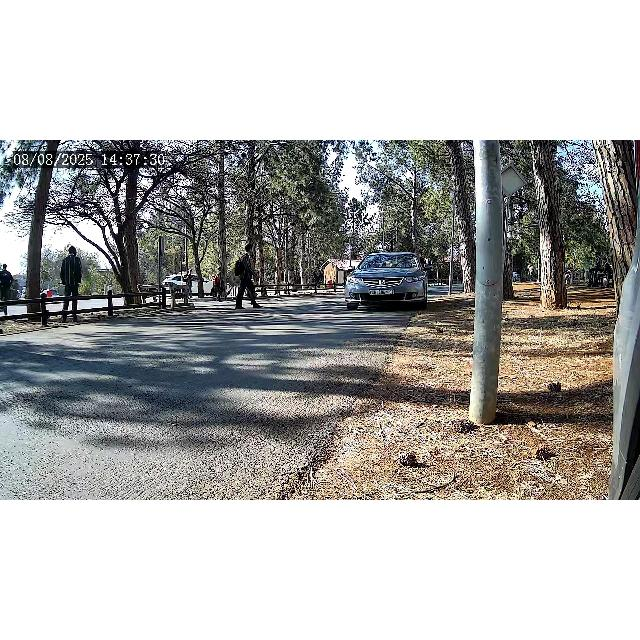car: (344, 251, 428, 311)
plate: (367, 288, 395, 296)
